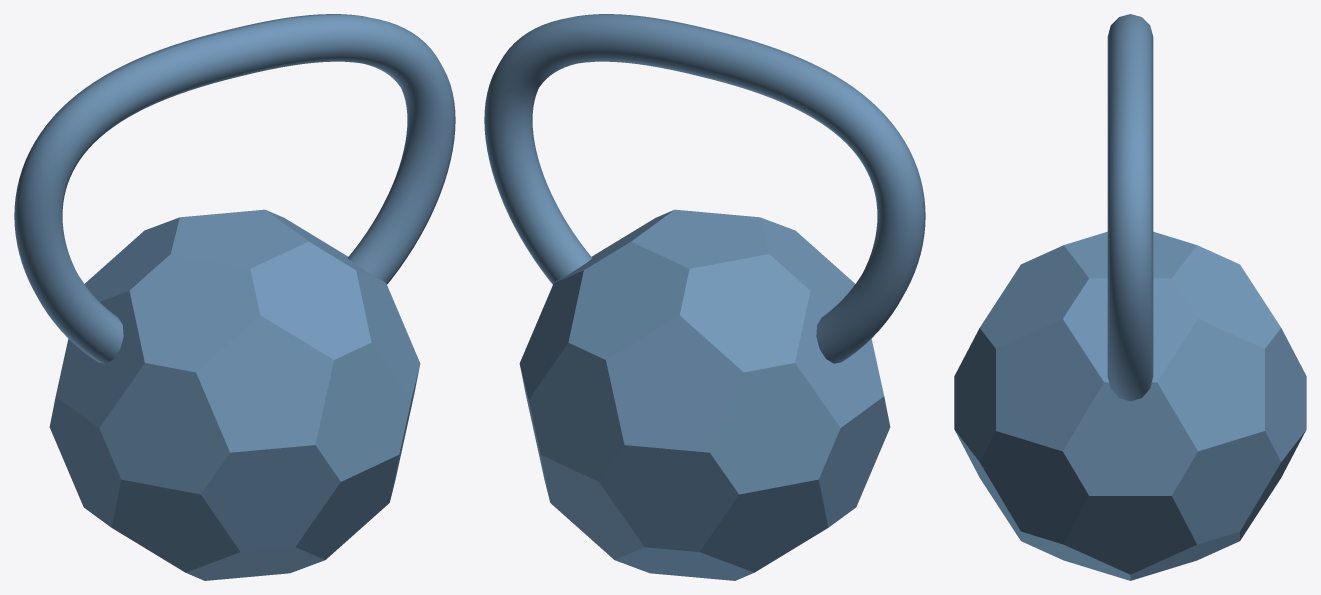
File: Weight_2.fbx
The picture shows the model from 3 angles, left to right: view 1: azimuth 30°, elevation 25°; view 2: azimuth 150°, elevation 25°; view 3: azimuth 270°, elevation 25°; orthographic projection. The views are drawn at different scales.
Visible parts, largest first — view 1: Icosphere.001; view 2: Icosphere.001; view 3: Icosphere.001.
Part boxes in pixels (box(x1,y1,x2,y2)): Icosphere.001: box(14, 14, 455, 580); Icosphere.001: box(484, 14, 925, 580); Icosphere.001: box(954, 14, 1306, 580).
Size of the model in its own units: 33.66 by 38.56 by 25.
